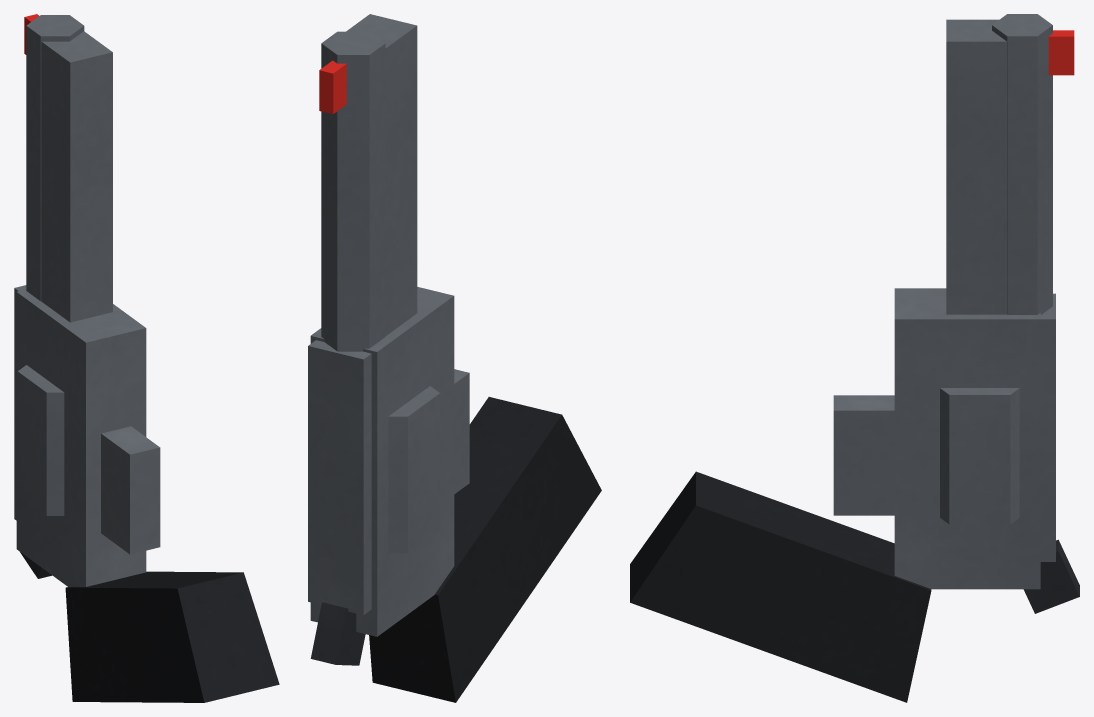
File: weapon_revolver.glb
The picture shows the model from 3 angles, left to right: view 1: azimuth 30°, elevation 25°; view 2: azimuth 150°, elevation 25°; view 3: azimuth 270°, elevation 25°; orthographic projection. The views are drawn at different scales.
Parts seen in each view (by area): view 1: Weapon_Revolver; view 2: Weapon_Revolver; view 3: Weapon_Revolver.
Boxes of the visible parts, left/top/right/bottom form: Weapon_Revolver: left=14, top=14, right=279, bottom=702; Weapon_Revolver: left=308, top=14, right=601, bottom=702; Weapon_Revolver: left=630, top=14, right=1079, bottom=702.
Size of the model in its own units: 0.0346 by 0.2387 by 0.1478.
4 materials, 3 textured.
